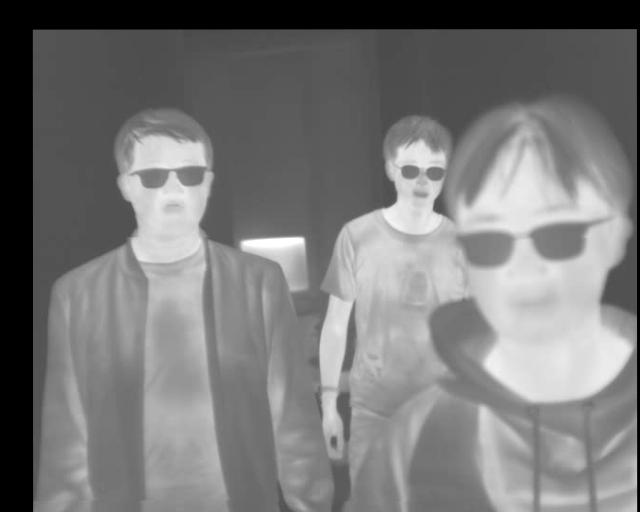face: (447, 94, 629, 345), (113, 106, 216, 240), (380, 112, 451, 212)
